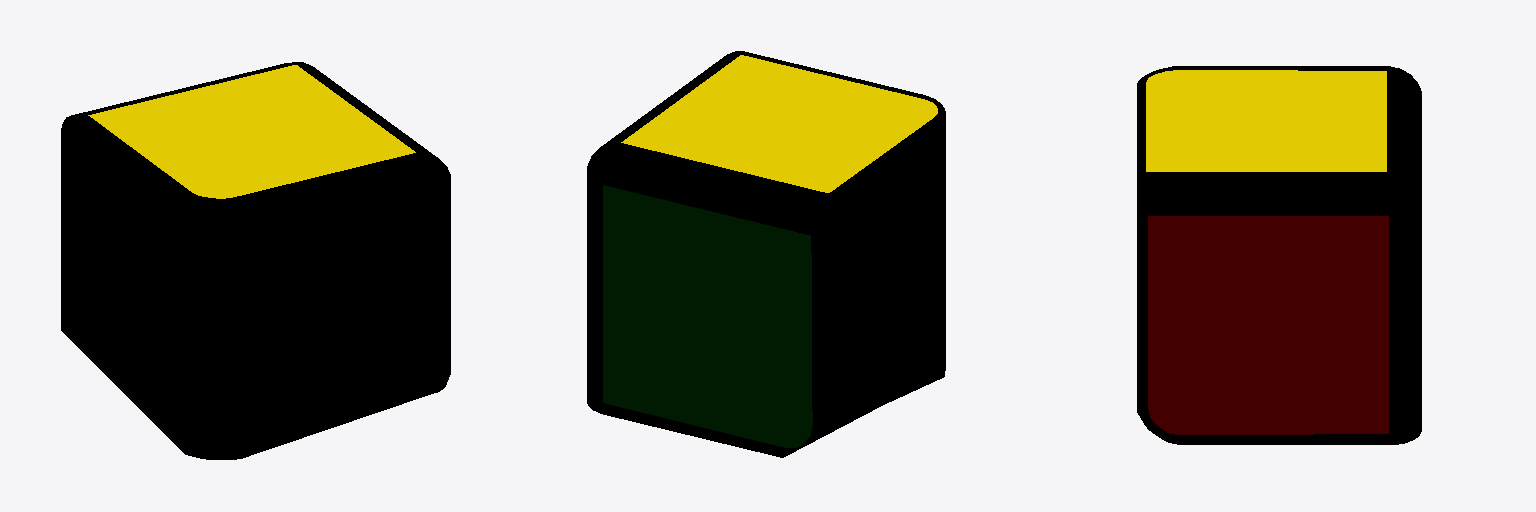
File: cornerYRG.obj
3 renders of one model, left to right at view 1: azimuth 30°, elevation 25°; view 2: azimuth 150°, elevation 25°; view 3: azimuth 270°, elevation 25°, orthographic.
Visible parts, largest first — view 1: BasicCorner_Plane, ColoredSide1_Plane.001; view 2: BasicCorner_Plane, ColoredSide3_Plane.005, ColoredSide1_Plane.001; view 3: ColoredSide2_Plane.004, BasicCorner_Plane, ColoredSide1_Plane.001.
Part boxes in pixels (left/top/right/bottom): BasicCorner_Plane: left=61, top=62, right=450, bottom=459; ColoredSide1_Plane.001: left=88, top=65, right=415, bottom=198; BasicCorner_Plane: left=587, top=51, right=945, bottom=457; ColoredSide3_Plane.005: left=603, top=185, right=812, bottom=447; ColoredSide1_Plane.001: left=621, top=55, right=937, bottom=192; ColoredSide2_Plane.004: left=1148, top=216, right=1388, bottom=434; BasicCorner_Plane: left=1137, top=66, right=1421, bottom=444; ColoredSide1_Plane.001: left=1146, top=70, right=1386, bottom=171.
Size of the model in its own units: 0.1809 by 0.1801 by 0.1809.